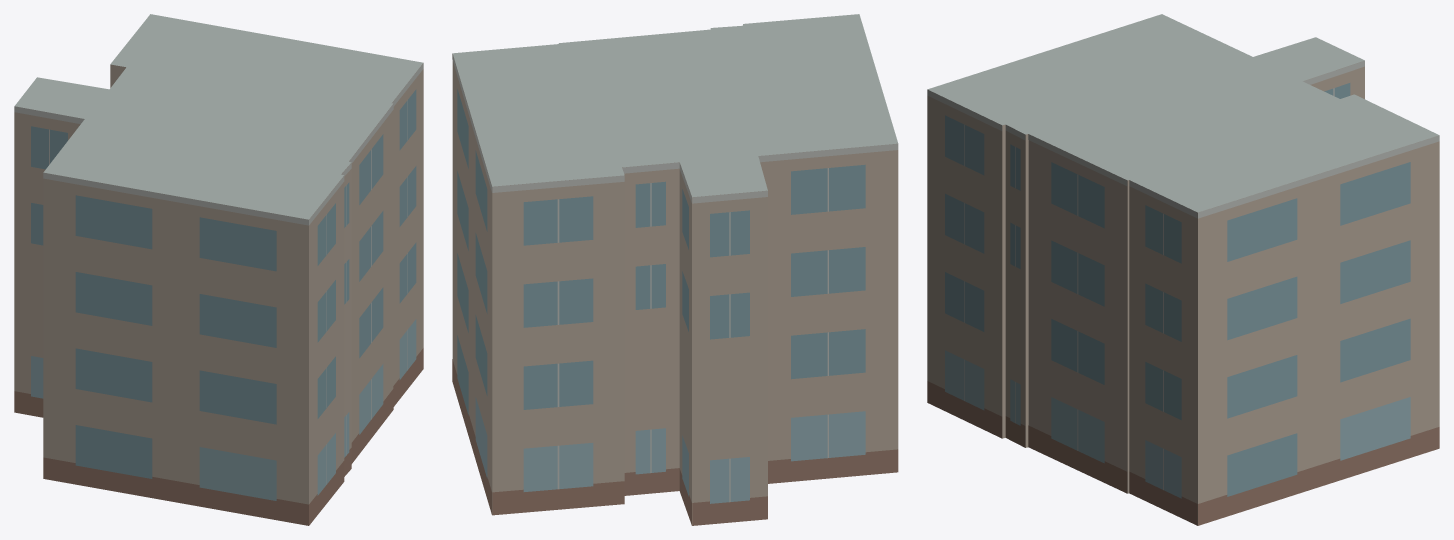
The model's file is survey-upis-32773239.glb.
The picture shows the model from 3 angles, left to right: view 1: azimuth 30°, elevation 25°; view 2: azimuth 150°, elevation 25°; view 3: azimuth 270°, elevation 25°; orthographic projection. The views are drawn at different scales.
Visible parts, largest first — view 1: survey-upis-32773239.tmp; view 2: survey-upis-32773239.tmp; view 3: survey-upis-32773239.tmp.
Part boxes in pixels (x1=…): survey-upis-32773239.tmp: x1=14, y1=14, x2=423, y2=525; survey-upis-32773239.tmp: x1=452, y1=14, x2=898, y2=525; survey-upis-32773239.tmp: x1=927, y1=14, x2=1439, y2=525.
Size of the model in its own units: 17.11 by 12.58 by 18.65.
